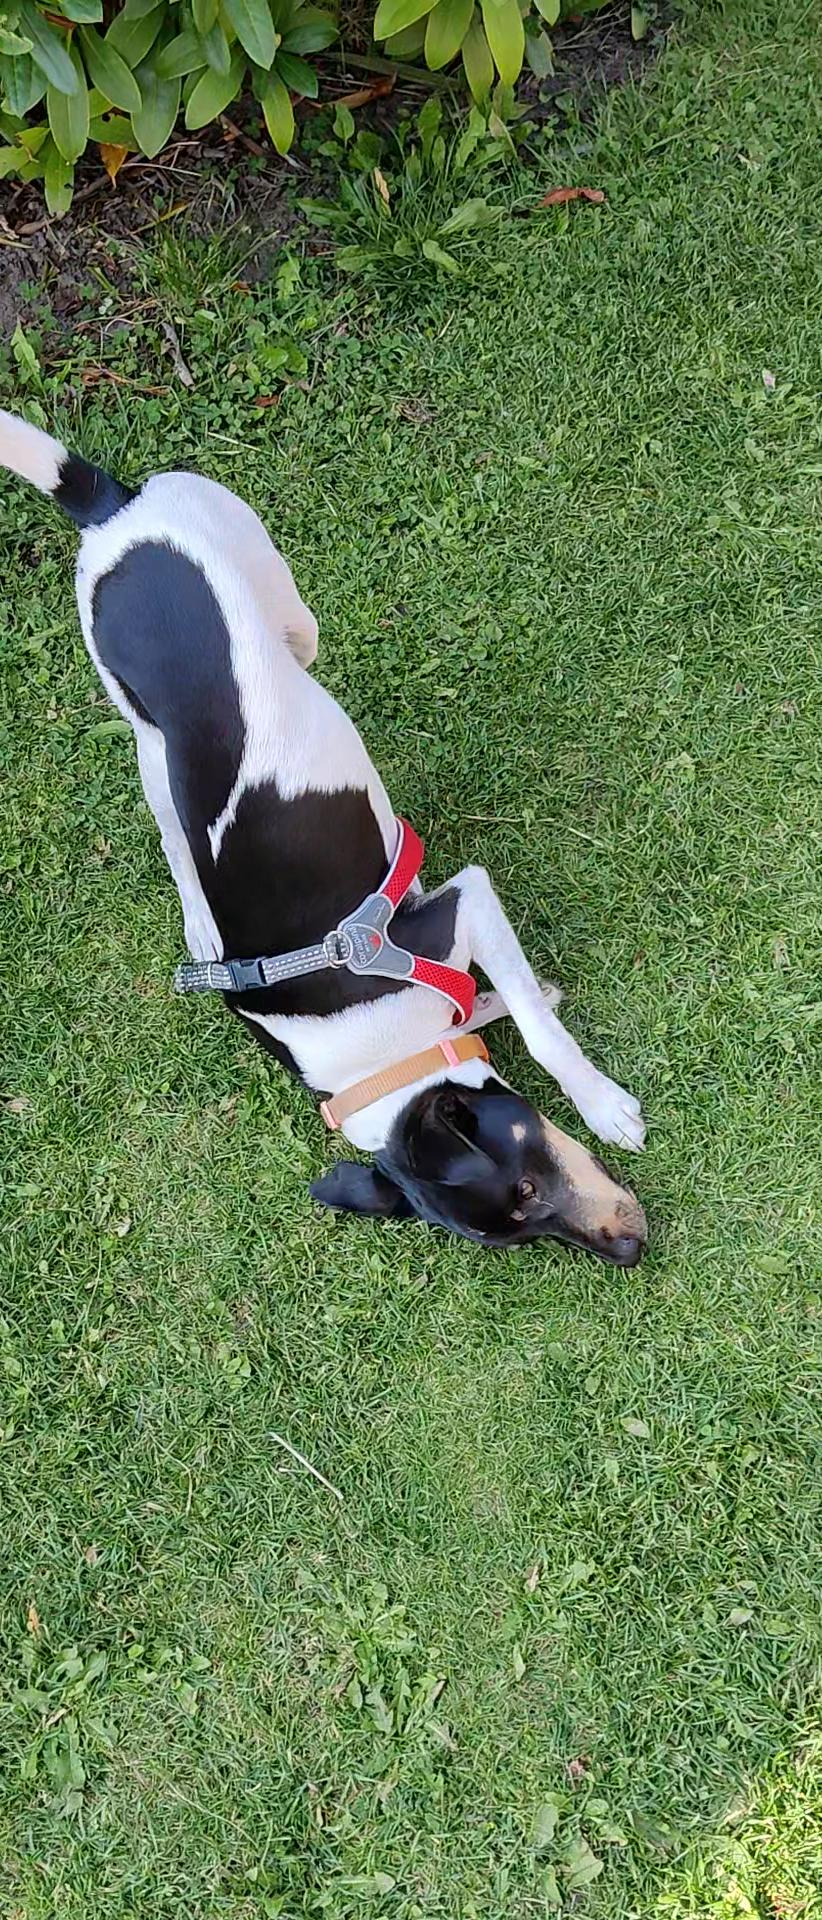Dog: (0, 351, 697, 1286)
